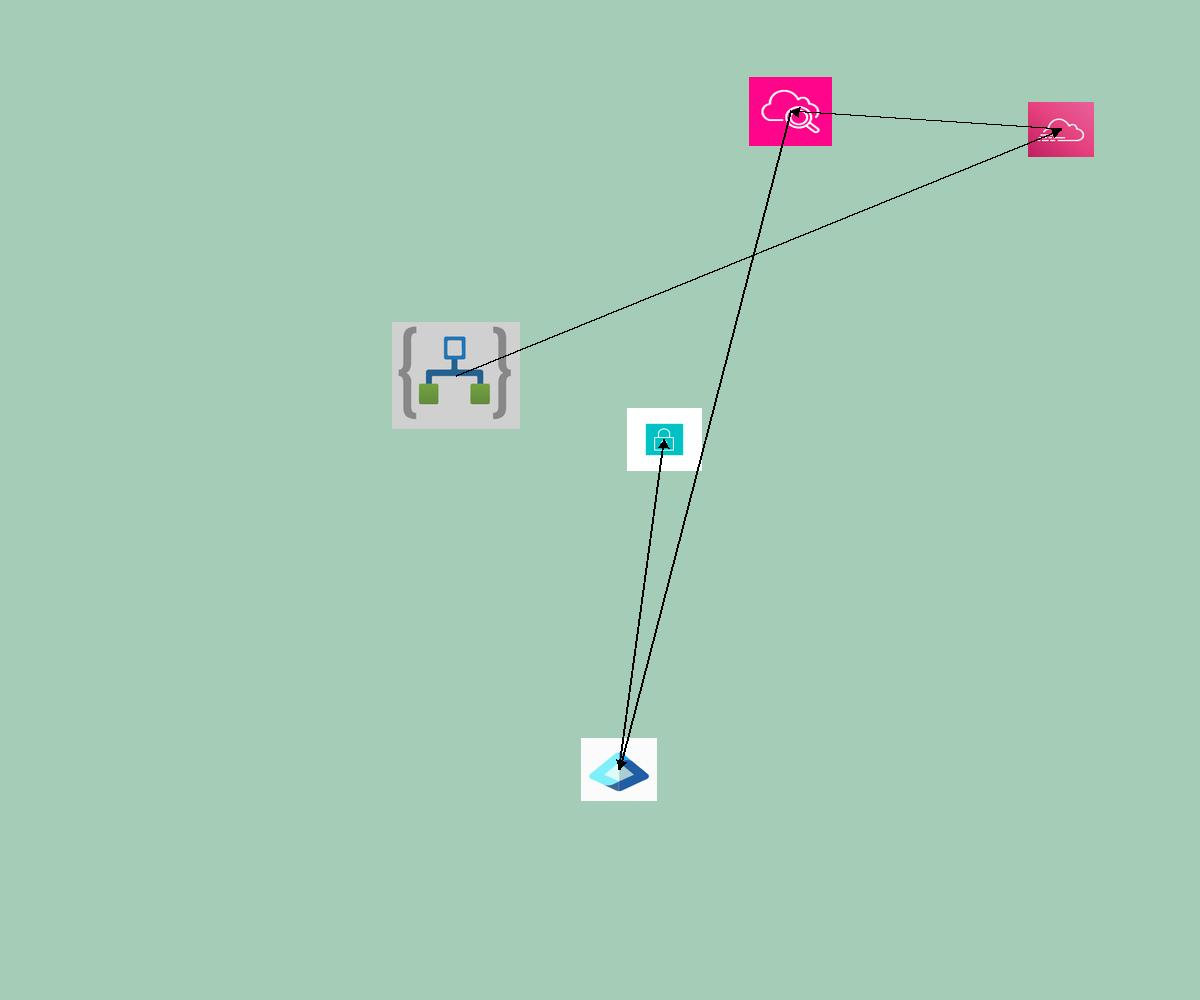AWS-CloudTrail: (1028, 102, 1094, 157)
AWS-CloudWatch: (749, 77, 832, 146)
AWS-Private-subnet: (627, 408, 702, 471)
Azure_integration-204-Logic-Apps: (392, 322, 520, 429)
Azure_microsoft_entra: (581, 738, 657, 801)
